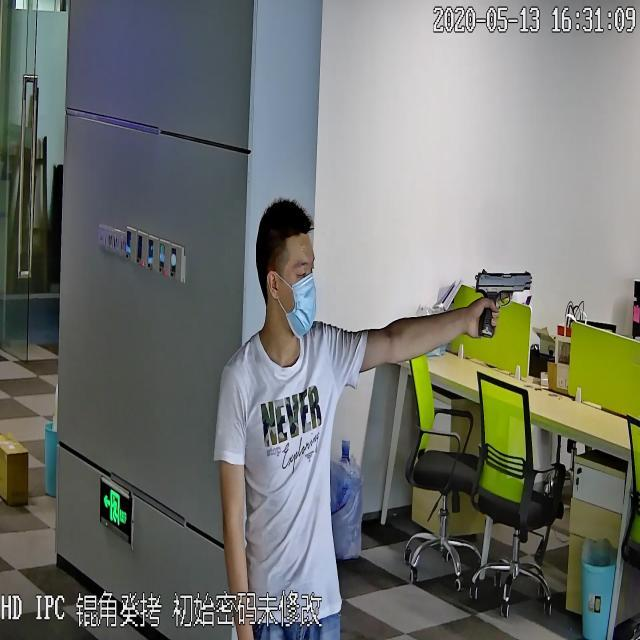gun: (462, 255, 532, 336)
